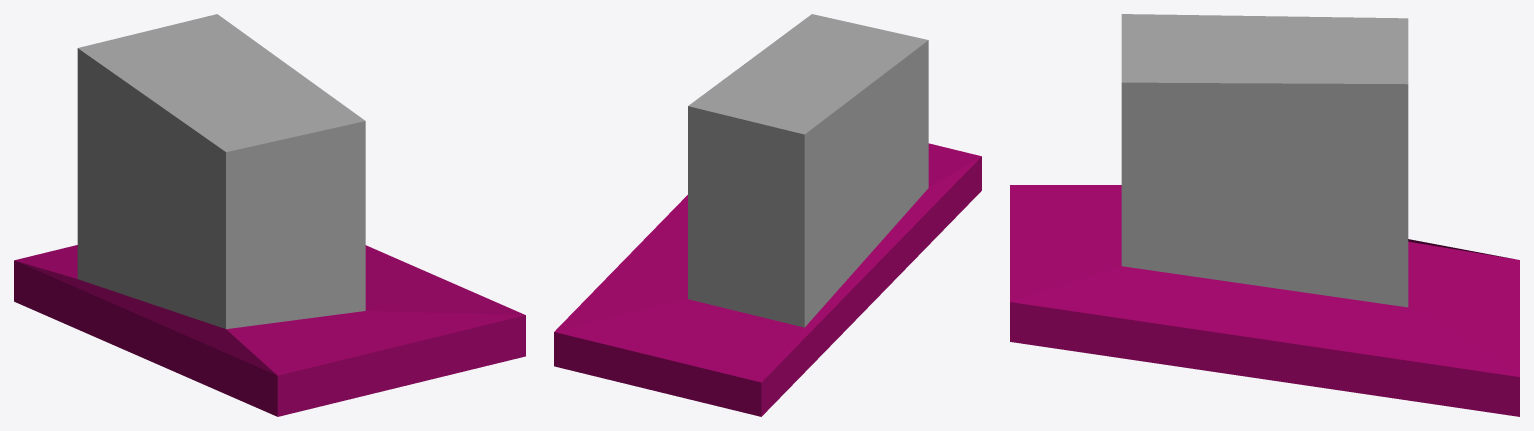
Rendered from suckthing.fbx.
The picture shows the model from 3 angles, left to right: view 1: azimuth 30°, elevation 25°; view 2: azimuth 150°, elevation 25°; view 3: azimuth 270°, elevation 25°; orthographic projection. The views are drawn at different scales.
Visible parts, largest first — view 1: suckthing; view 2: suckthing; view 3: suckthing.
Boxes of the visible parts, x1,y1,x2,y2 form: suckthing: (14,14,525,416); suckthing: (554,14,981,416); suckthing: (1010,14,1519,416).
Size of the model in its own units: 2.27 by 2.61 by 4.17.
